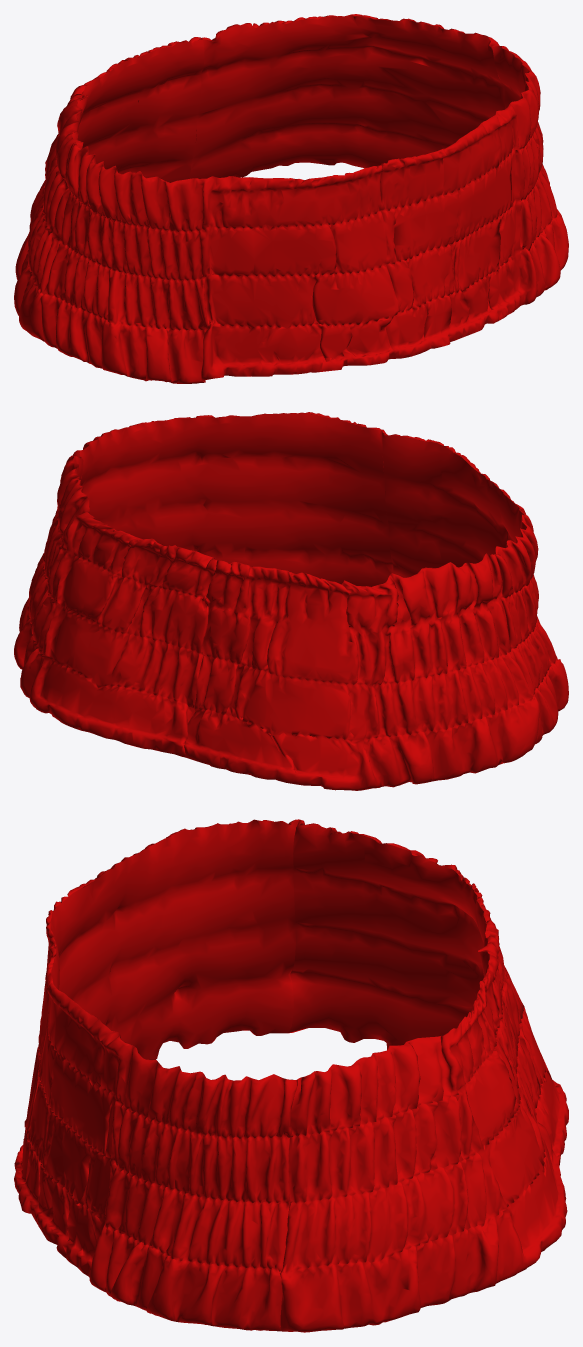
File: waist.glb
The picture shows the model from 3 angles, top to bottom: view 1: azimuth 30°, elevation 25°; view 2: azimuth 150°, elevation 25°; view 3: azimuth 270°, elevation 25°; orthographic projection. The views are drawn at different scales.
Parts seen in each view (by area): view 1: waist; view 2: waist; view 3: waist.
Boxes of the visible parts, box(x1,y1,x2,y2) form: waist: box(14, 14, 568, 383); waist: box(14, 412, 568, 790); waist: box(14, 819, 568, 1332).
Size of the model in its own units: 1.62 by 0.6031 by 1.22.
